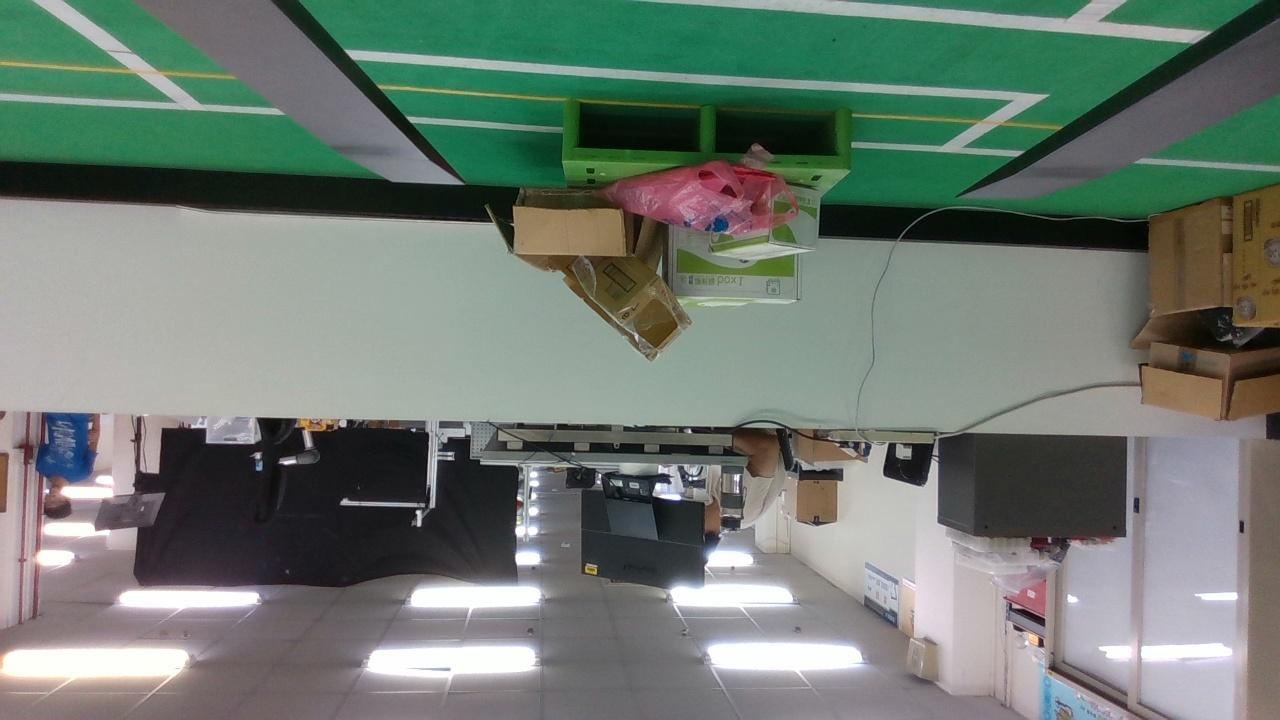Pallet: (560, 98, 853, 172)
